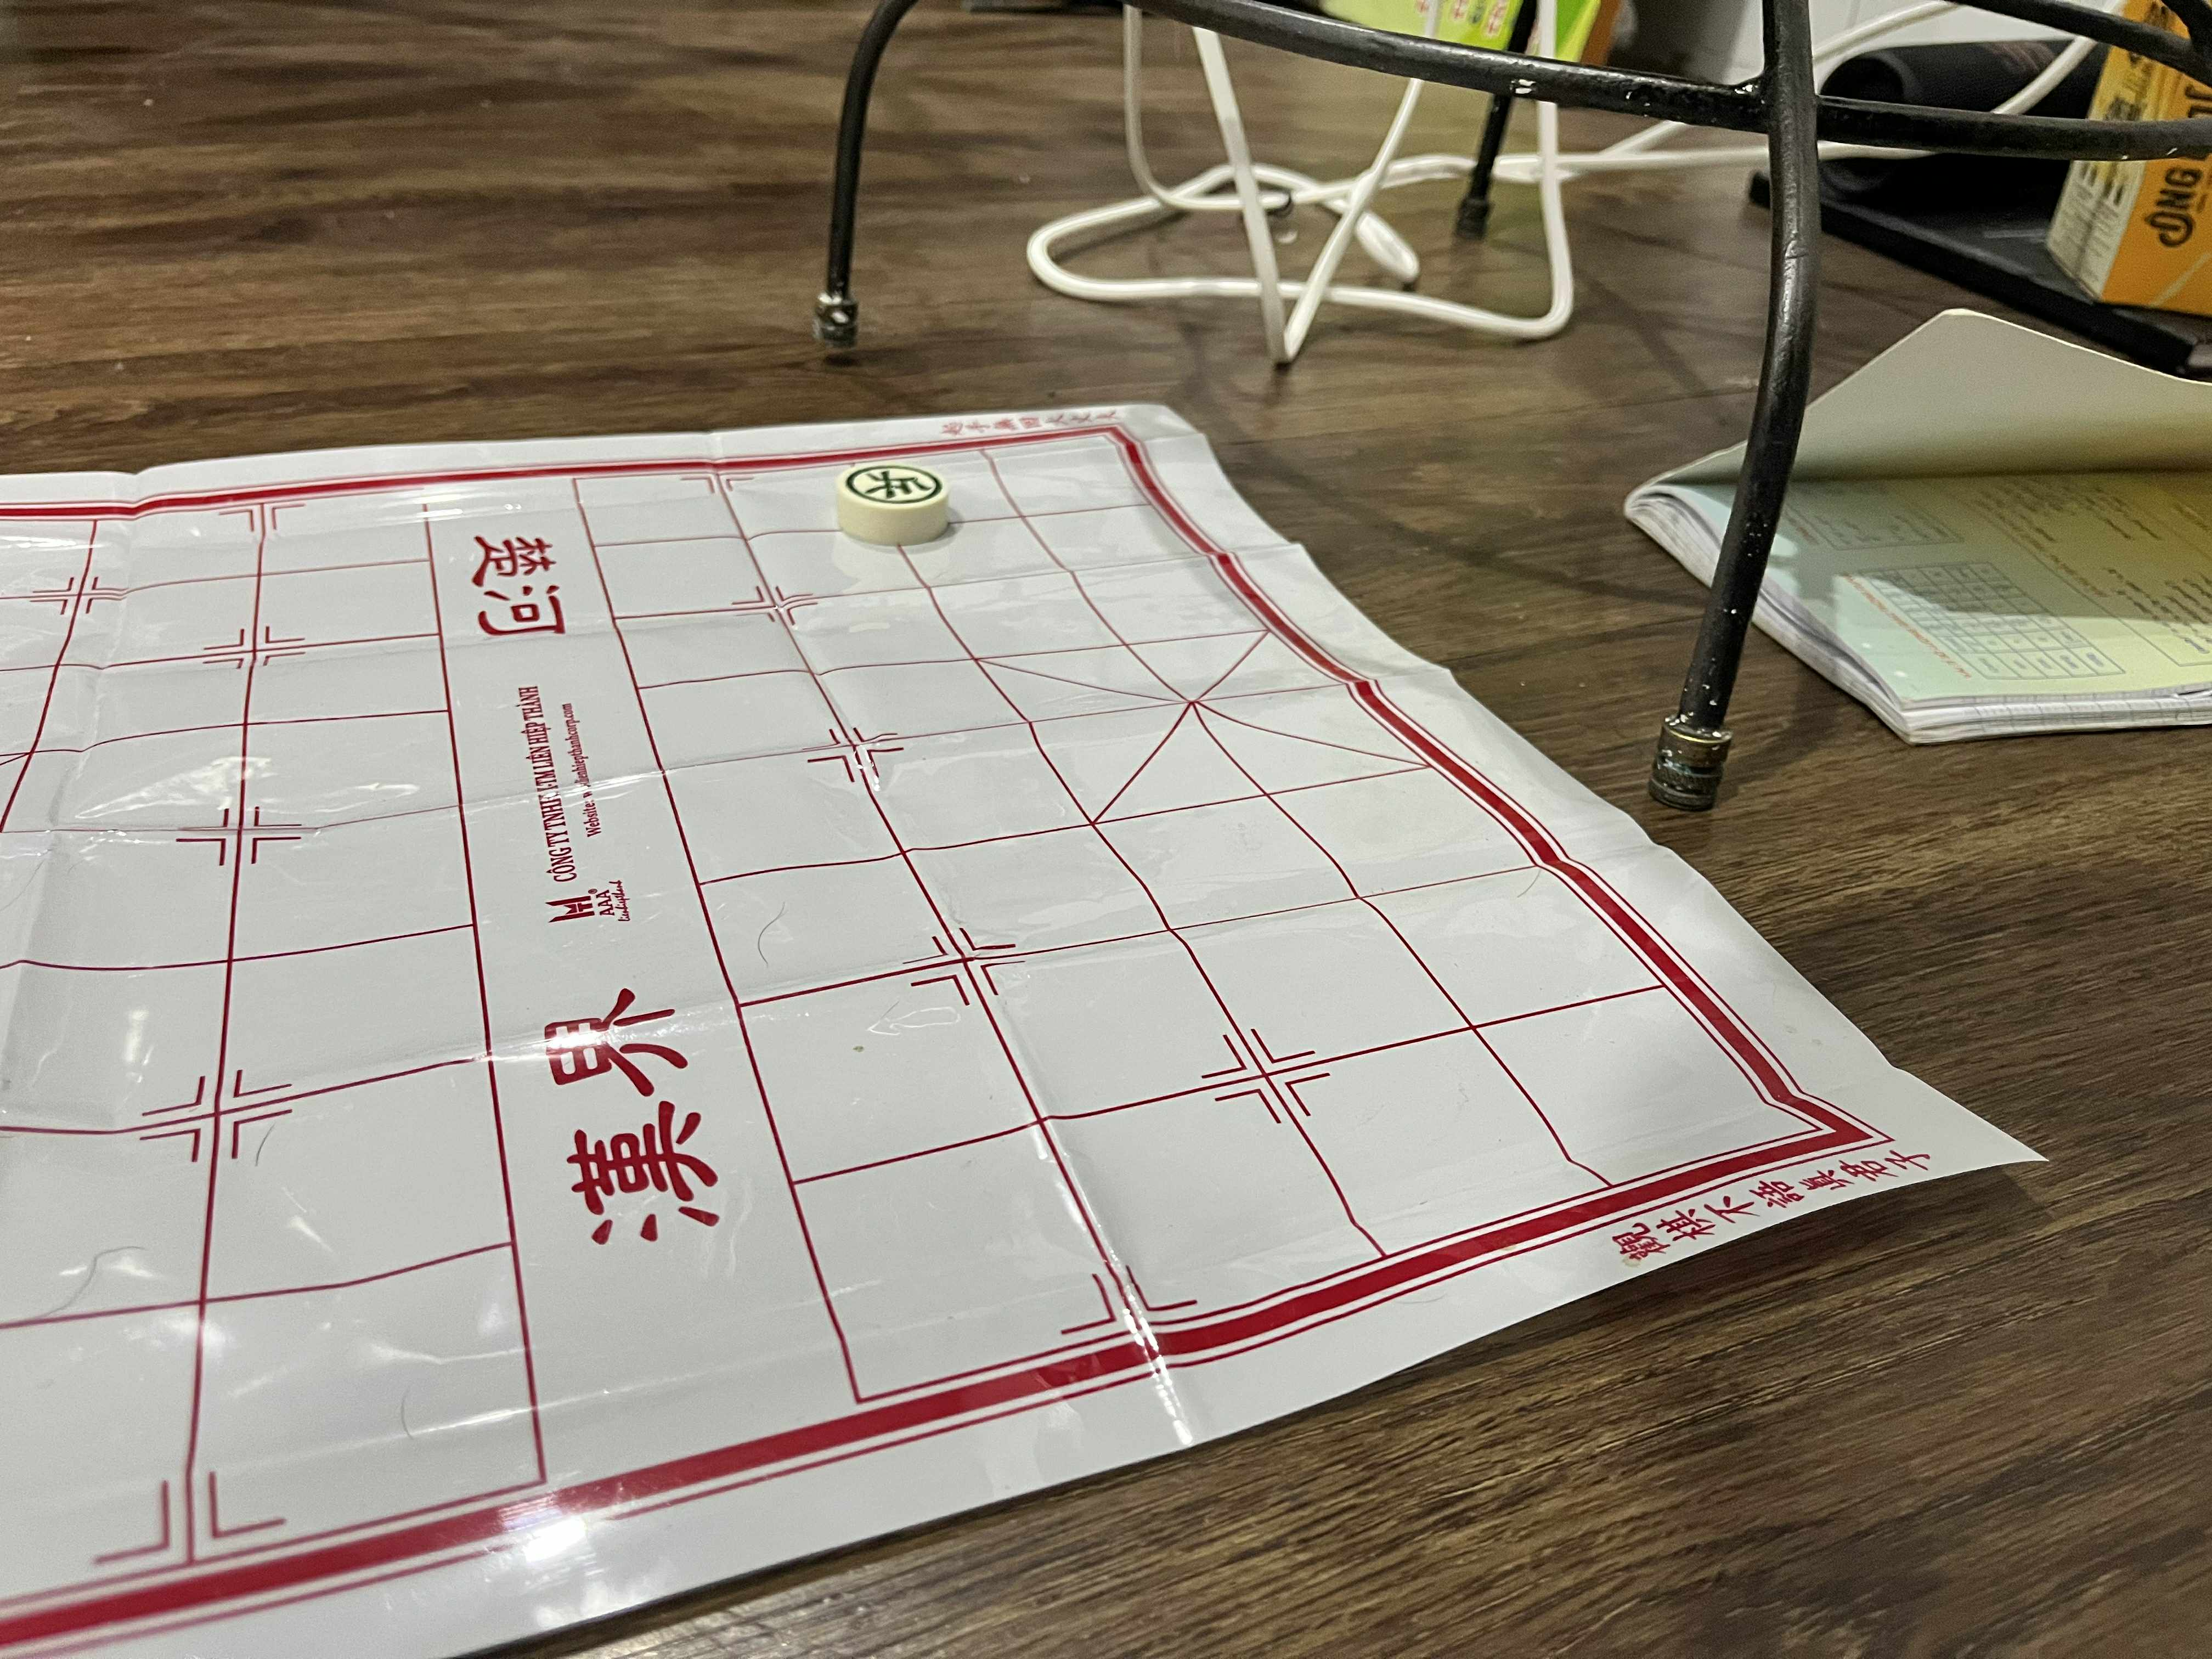black-soldier: (836, 461, 950, 509)
